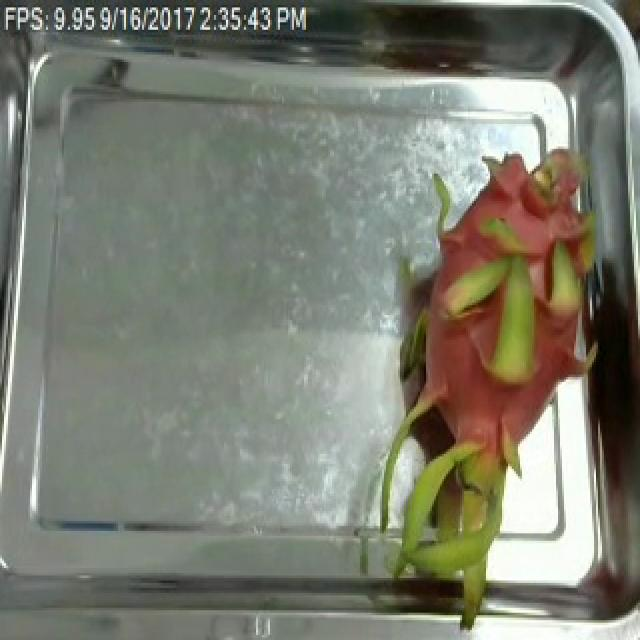fruit: (338, 164, 636, 620)
